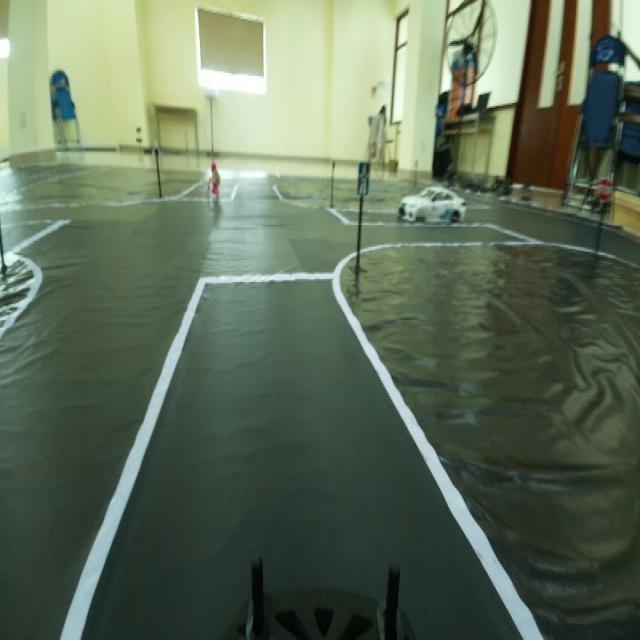highway_exit: (355, 160, 373, 196)
